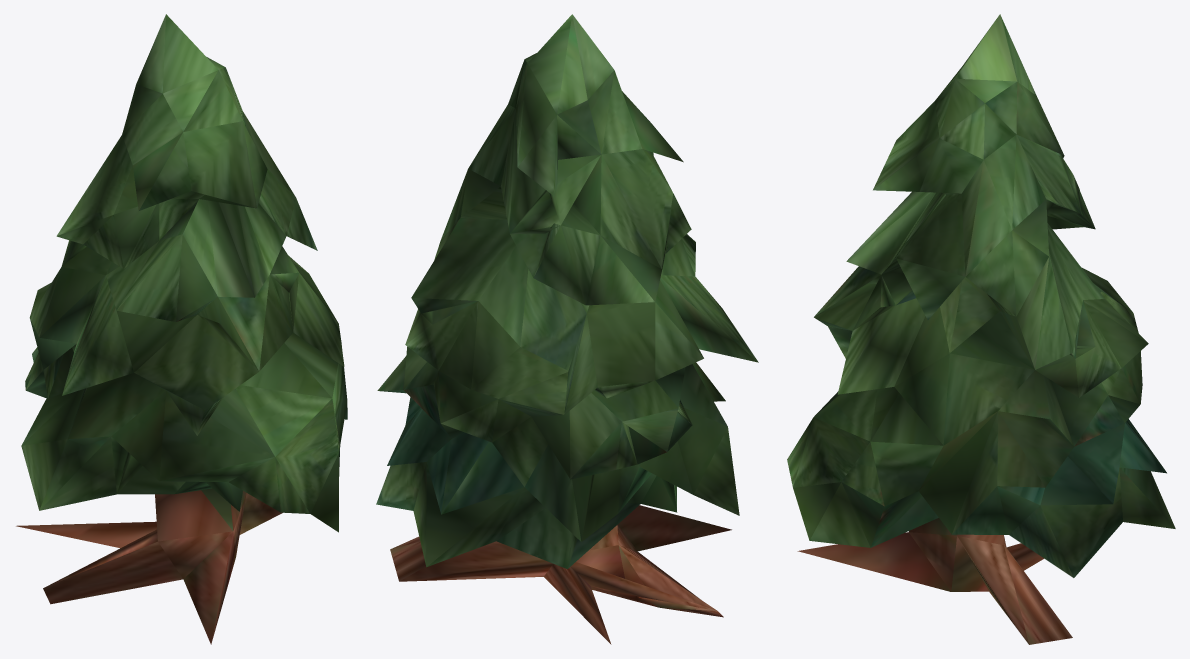
The model's file is tree.glb.
3 views of the same model, side by side, from view 1: azimuth 30°, elevation 25°; view 2: azimuth 150°, elevation 25°; view 3: azimuth 270°, elevation 25° (orthographic). The views are drawn at different scales.
Visible parts, largest first — view 1: Tree; view 2: Tree; view 3: Tree.
Part boxes in pixels (box(x1,y1,x2,y2)): Tree: box(16, 14, 347, 644); Tree: box(376, 14, 758, 644); Tree: box(787, 14, 1175, 644).
Size of the model in its own units: 1.08 by 1.86 by 1.16.
1 material, 1 textured.
